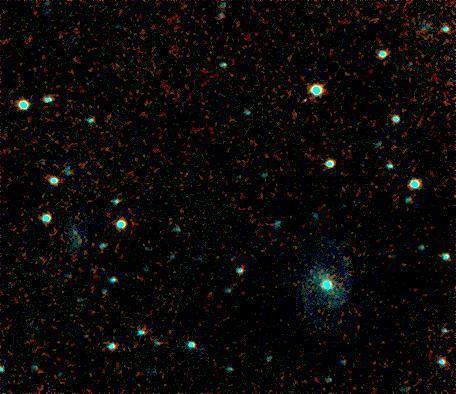star: (290, 89, 320, 119)
